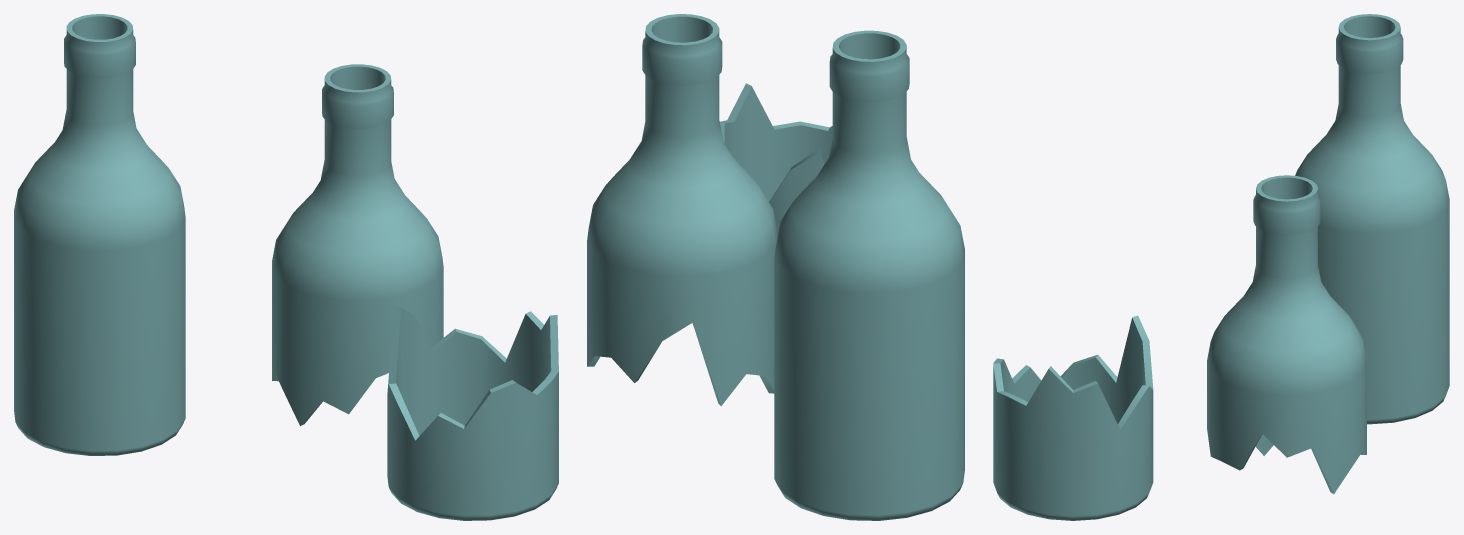
File: glass bottle.fbx
3 renders of one model, left to right at view 1: azimuth 30°, elevation 25°; view 2: azimuth 150°, elevation 25°; view 3: azimuth 270°, elevation 25°, orthographic. The views are drawn at different scales.
Parts seen in each view (by area): view 1: polySurface14, polySurface17, polySurface25; view 2: polySurface14, polySurface17, polySurface25; view 3: polySurface14, polySurface17, polySurface25.
Boxes of the visible parts, x1=… form: polySurface14: x1=14, y1=14, x2=185, y2=455; polySurface17: x1=272, y1=64, x2=443, y2=425; polySurface25: x1=387, y1=306, x2=558, y2=520; polySurface14: x1=774, y1=30, x2=964, y2=520; polySurface17: x1=587, y1=14, x2=777, y2=405; polySurface25: x1=720, y1=83, x2=832, y2=234; polySurface14: x1=1295, y1=14, x2=1449, y2=424; polySurface17: x1=1207, y1=175, x2=1366, y2=493; polySurface25: x1=993, y1=315, x2=1153, y2=520.
Size of the model in its own units: 1.35 by 1.41 by 1.59.
